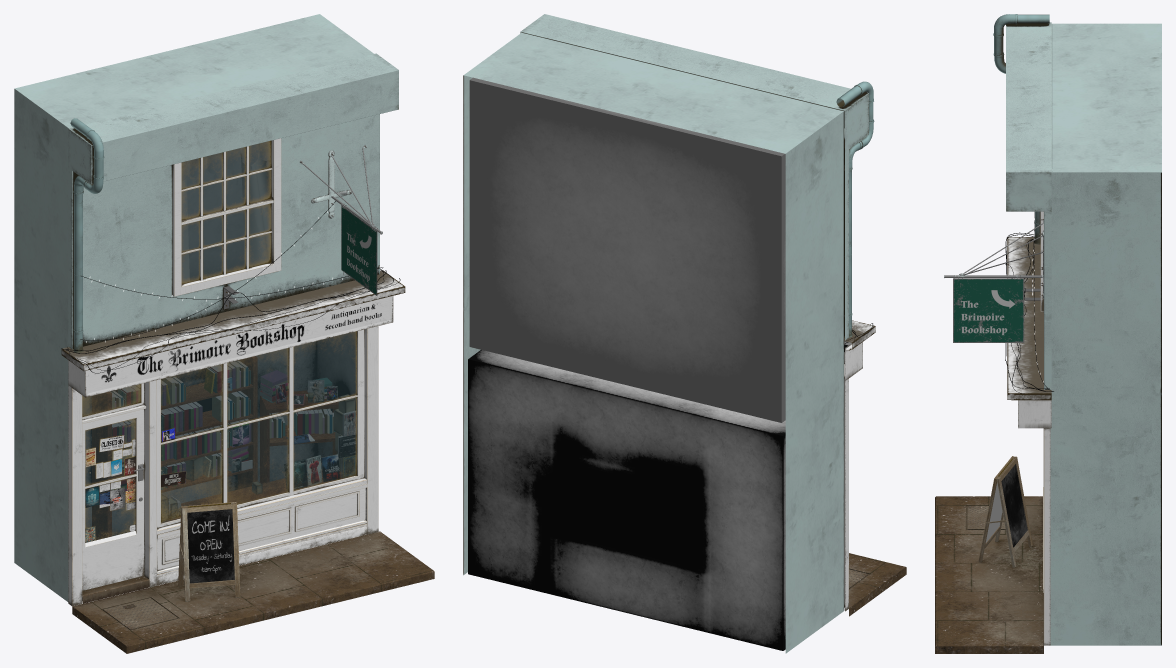
The model's file is handmade_store_free.glb.
3 renders of one model, left to right at view 1: azimuth 30°, elevation 25°; view 2: azimuth 150°, elevation 25°; view 3: azimuth 270°, elevation 25°, orthographic. The views are drawn at different scales.
Parts seen in each view (by area): view 1: outdoor_wall, Wall1, Cornice (×2), Glass_01, Front_floor, Window (×2), Glass2, Sign_Band, Indoorwall01, Door, sidewalk_sign, Stand01 (+19 smaller); view 2: interior_wall02, Indoorwall01, outdoor_wall, Cornice, Front_floor, Pipe, Pliaster_left, Wall1; view 3: outdoor_wall, Front_floor, Cornice (×2), Sign, sidewalk_sign, Pliaster_right, Wall1, Pipe, Sign_Band, electric_wire.
Part boxes in pixels (<box>): outdoor_wall: <box>14,14,373,601</box>; Wall1: <box>68,114,379,349</box>; Cornice (×2): <box>61,53,405,371</box>; Glass_01: <box>161,331,356,522</box>; Front_floor: <box>72,531,434,653</box>; Window (×2): <box>157,138,364,528</box>; Glass2: <box>181,140,271,284</box>; Sign_Band: <box>68,296,393,397</box>; Indoorwall01: <box>82,332,356,600</box>; Door: <box>82,409,144,590</box>; sidewalk_sign: <box>178,502,240,601</box>; Stand01: <box>92,356,257,539</box>; interior_wall02: <box>469,77,785,422</box>; Indoorwall01: <box>468,344,847,650</box>; outdoor_wall: <box>463,32,844,653</box>; Cornice: <box>520,14,868,151</box>; Front_floor: <box>849,553,906,616</box>; Pipe: <box>836,81,874,337</box>; Pliaster_left: <box>844,377,848,611</box>; Wall1: <box>844,148,848,340</box>; outdoor_wall: <box>1050,23,1161,645</box>; Front_floor: <box>935,496,1043,653</box>; Cornice (×2): <box>1006,22,1051,400</box>; Sign: <box>944,219,1043,345</box>; sidewalk_sign: <box>978,456,1032,567</box>; Pliaster_right: <box>1043,428,1050,645</box>; Wall1: <box>1044,211,1051,389</box>; Pipe: <box>993,14,1049,244</box>; Sign_Band: <box>1018,400,1051,428</box>; electric_wire: <box>1005,232,1053,393</box>.
Bounding box in the file's own units: 520 × 748 × 313.
10 materials, 10 textured.
